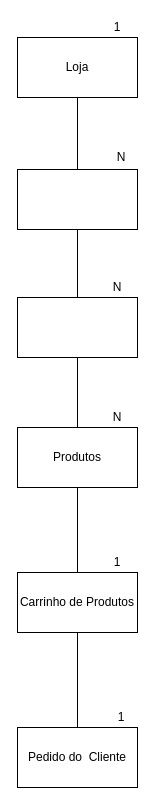
The diagram is 159 pixels wide and 805 high, and some of its shapes have lost their labels. The box of each missing label's shape, as (x1, y1, x2, y2) in pixels:
Categorias: (16, 168, 138, 230)
Subcategorias: (16, 296, 138, 358)
